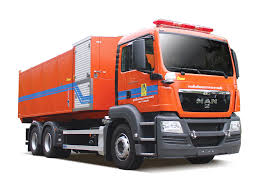truck: (17, 25, 241, 169)
